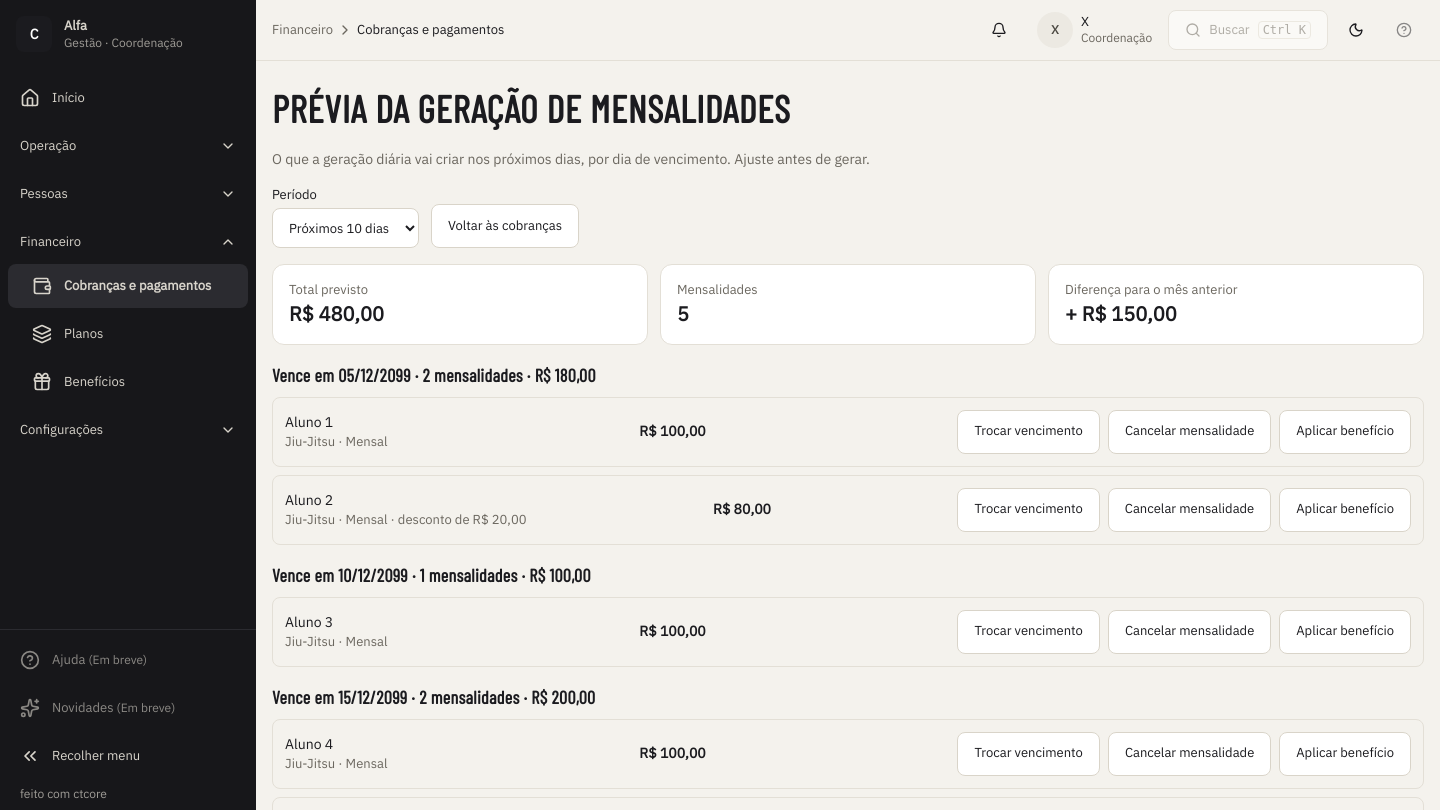
it: ChargePreviewPage (RF-COB-03) › CA14: só a linha ajustável tem as três ações; trocar vencimento envia a data e recarrega
Expected: the text "Total previsto" is shown, [289,281,368,298]
Expected: the number of buttons named "Aplicar benefício a " is 4, [1279,410,1411,454]; [1279,488,1411,532]; [1279,610,1411,654]; [1279,732,1411,776]
Click the button with aria-label "Trocar vencimento de Aluno 1".
click(1029, 432)  # box [958,410,1100,454]
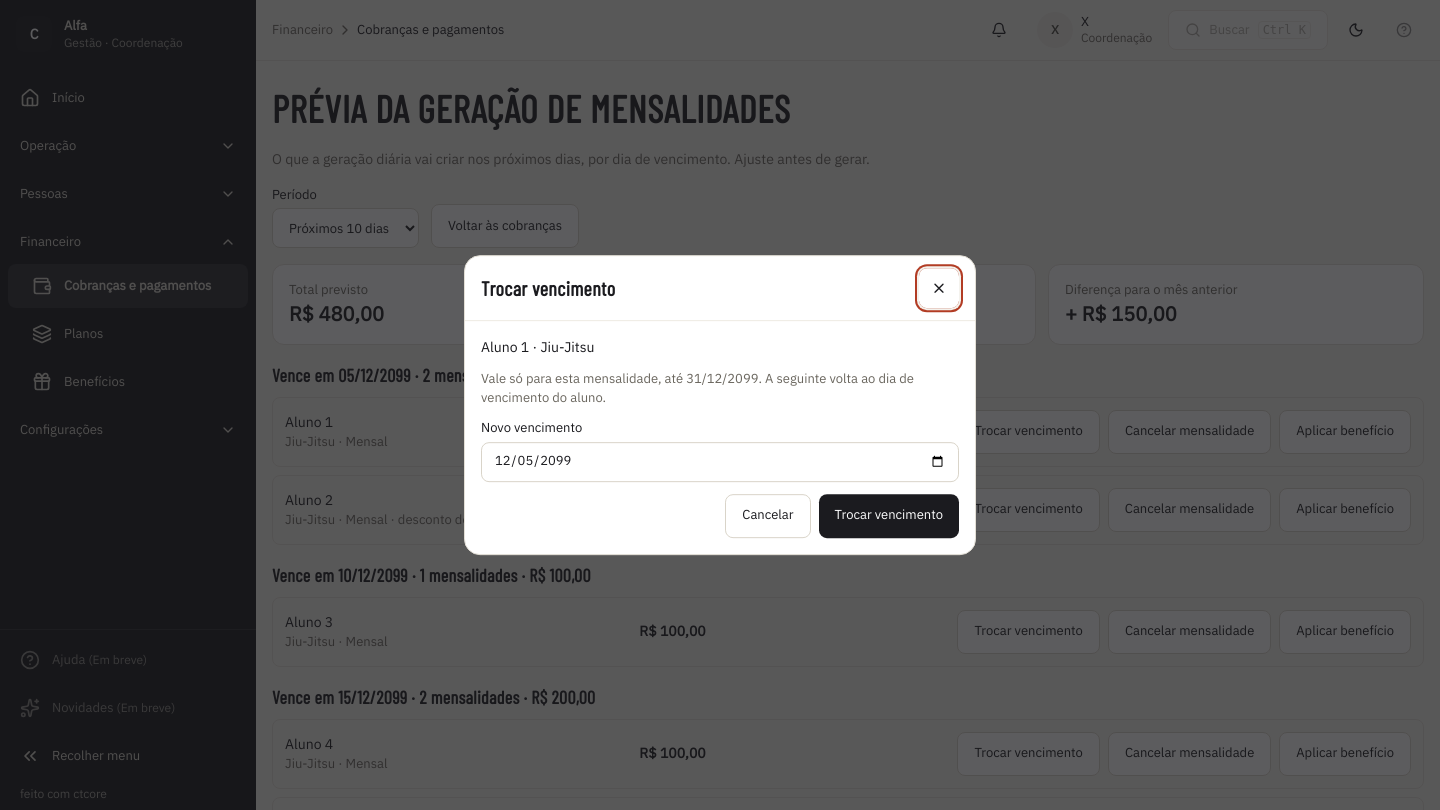
Type "2099-12-20" into the date field labelled "Novo vencimento".
click(720, 462); type("2099-12-20")  # box [481,442,959,482]
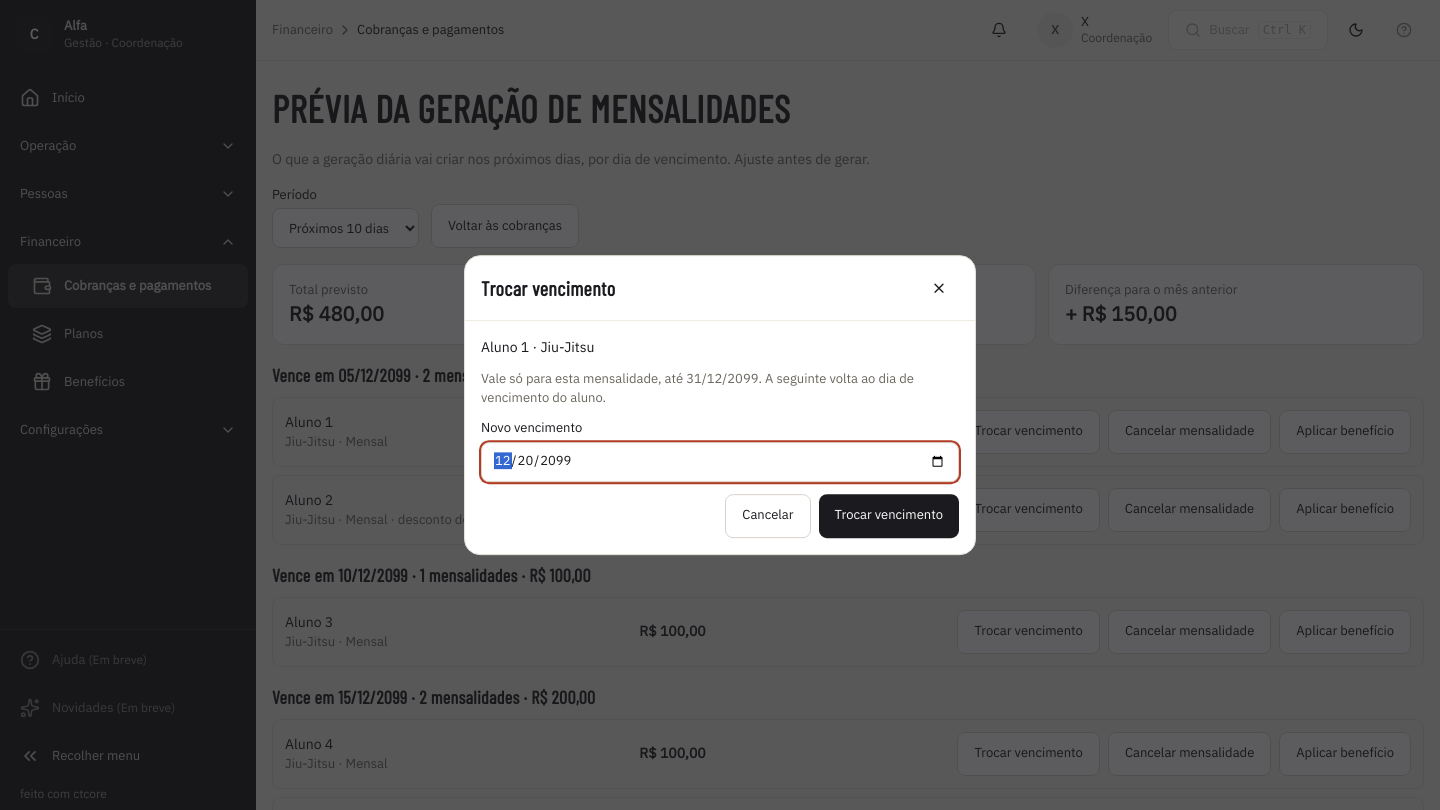
Click the button "Trocar vencimento".
click(889, 516)  # box [819,494,959,538]
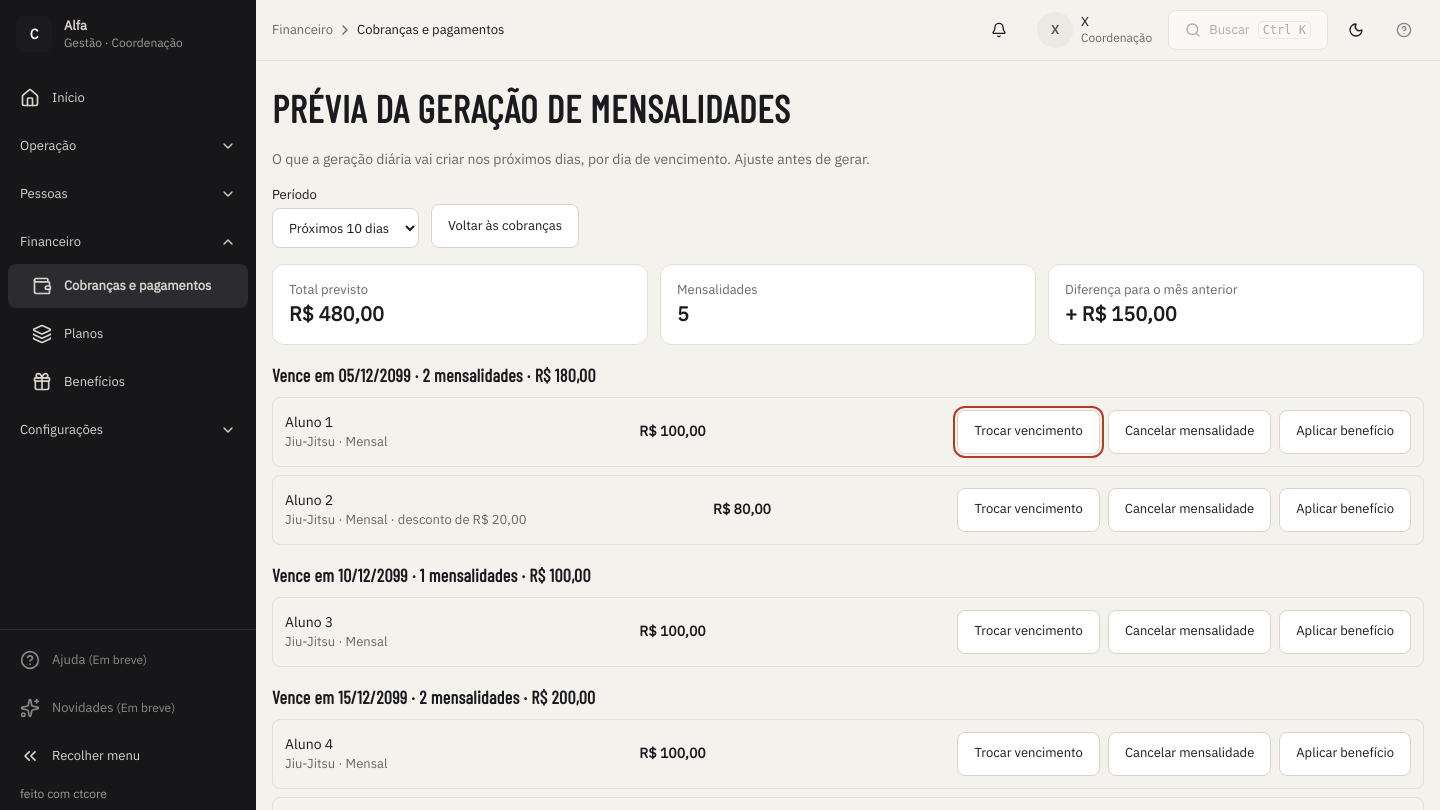
Expected: the dialog is gone
